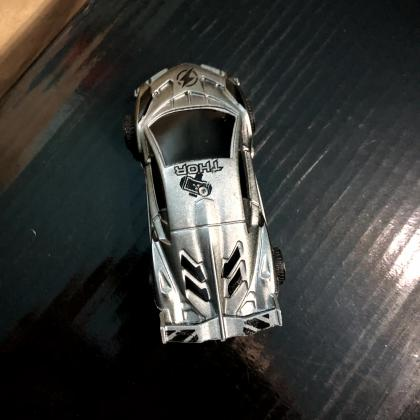Car: (127, 63, 284, 346)
